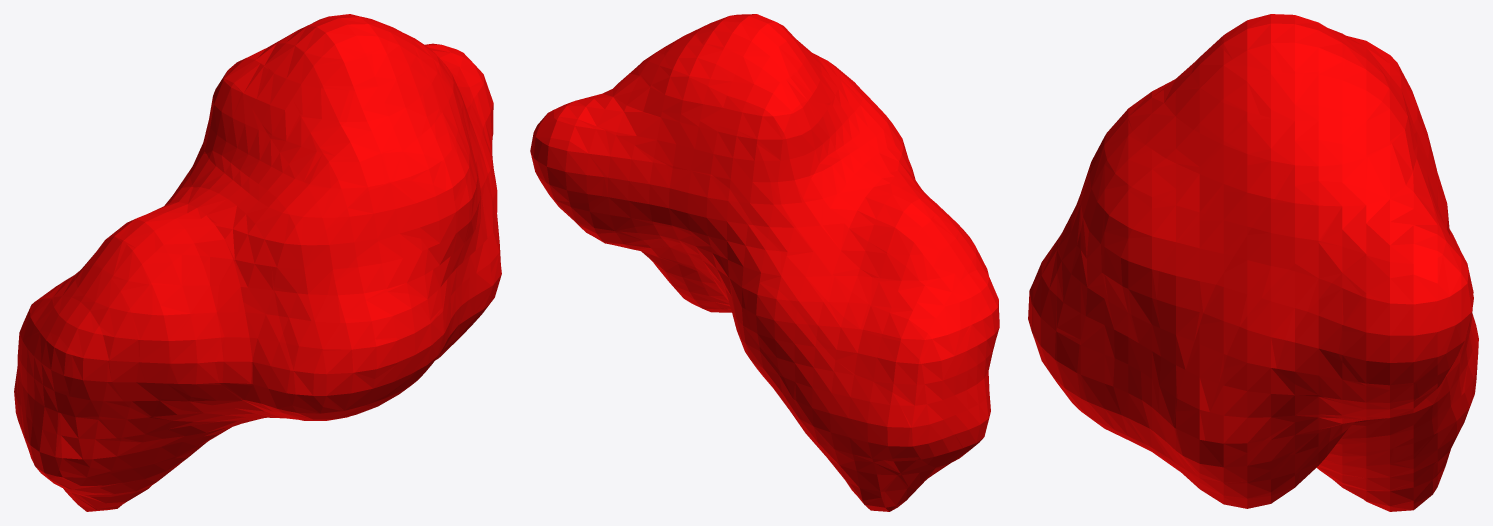
Rendered from chaB_coarse.dae.
3 views of the same model, side by side, from view 1: azimuth 30°, elevation 25°; view 2: azimuth 150°, elevation 25°; view 3: azimuth 270°, elevation 25° (orthographic). The views are drawn at different scales.
Parts seen in each view (by area): view 1: chaB; view 2: chaB; view 3: chaB.
Part boxes in pixels (<box>): chaB: <box>14,14,501,511</box>; chaB: <box>530,14,999,511</box>; chaB: <box>1028,14,1478,511</box>.
Size of the model in its own units: 43.19 by 40.8 by 27.33.
